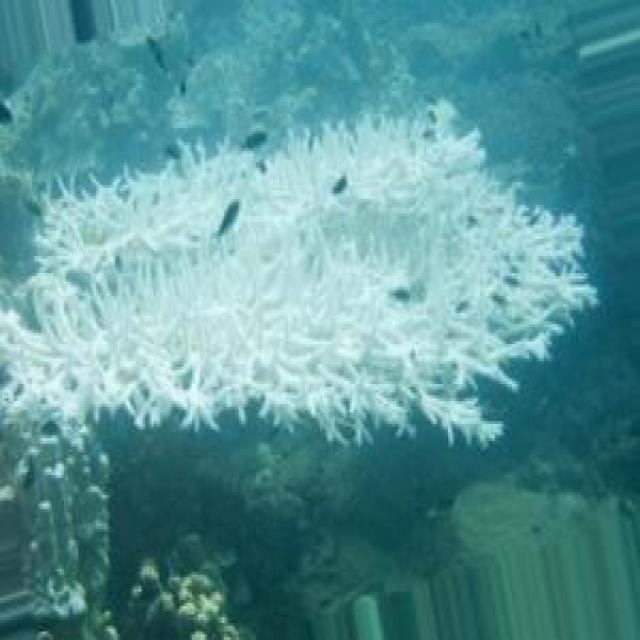bleached coral: (0, 107, 595, 444)
